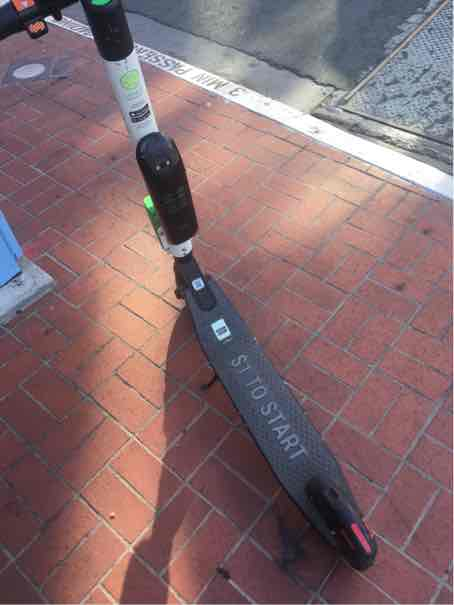scooter: (1, 6, 386, 566)
